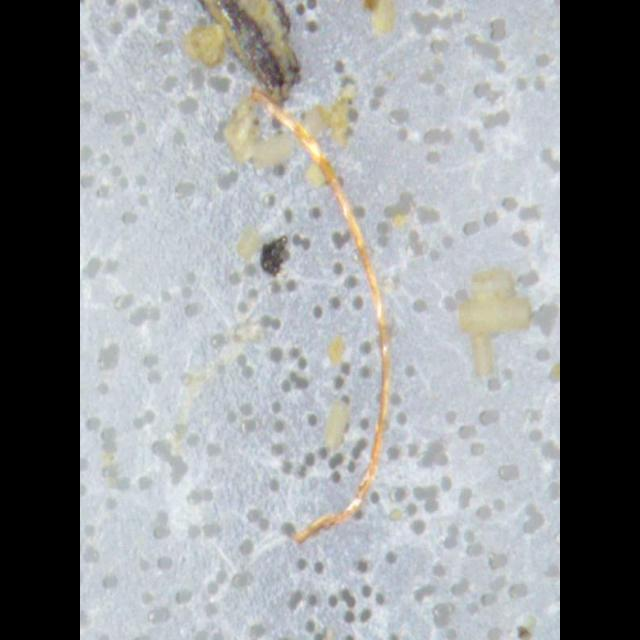Fibre: (246, 82, 398, 568)
